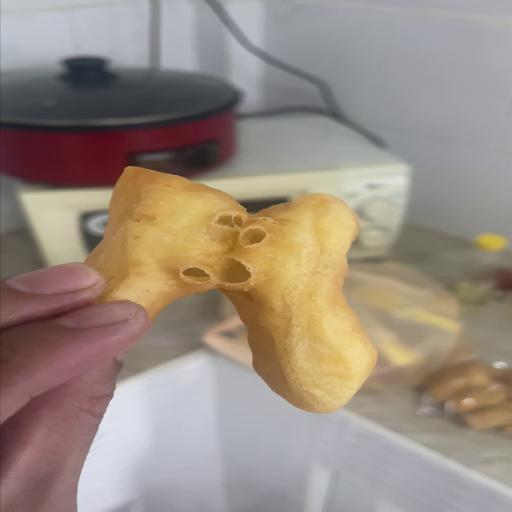street_golden_defect: (87, 167, 373, 412)
